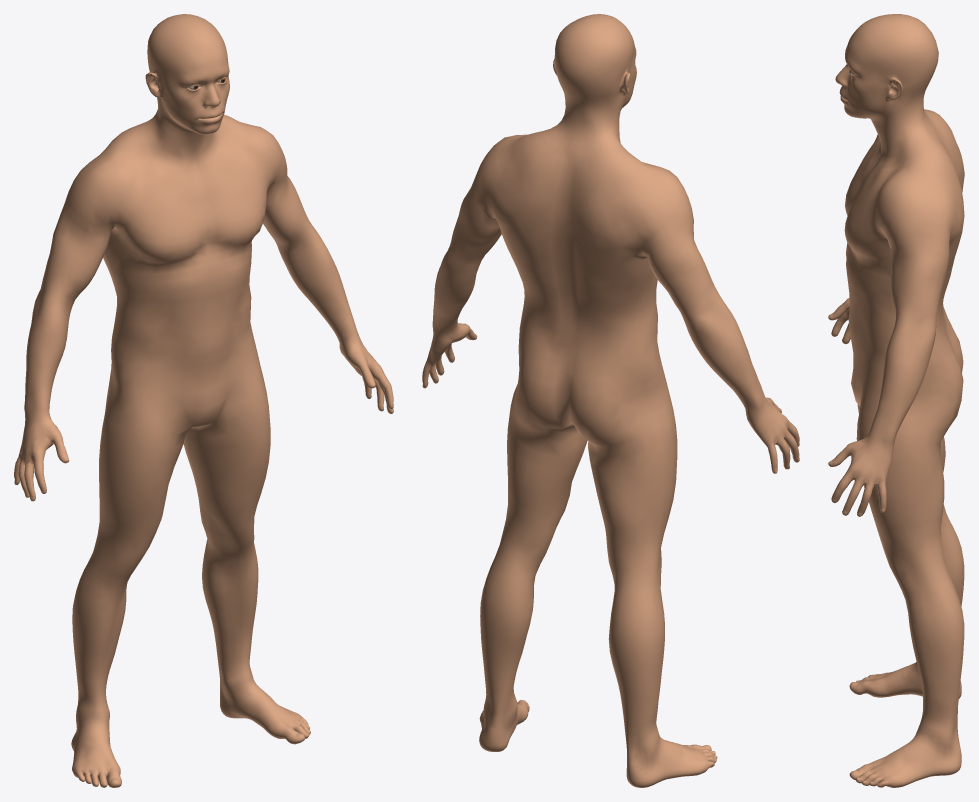
Rendered from bodyMale-realistic.glb.
The picture shows the model from 3 angles, left to right: view 1: azimuth 30°, elevation 25°; view 2: azimuth 150°, elevation 25°; view 3: azimuth 270°, elevation 25°; orthographic projection.
Visible parts, largest first — view 1: GEO-body_male_realistic-torso, GEO-body_male_realistic-right_leg, GEO-body_male_realistic-left_leg, GEO-body_male_realistic-right_arm, GEO-body_male_realistic-left_arm, GEO-body_male_realistic-head; view 2: GEO-body_male_realistic-torso, GEO-body_male_realistic-right_leg, GEO-body_male_realistic-left_leg, GEO-body_male_realistic-right_arm, GEO-body_male_realistic-left_arm, GEO-body_male_realistic-head; view 3: GEO-body_male_realistic-left_leg, GEO-body_male_realistic-torso, GEO-body_male_realistic-left_arm, GEO-body_male_realistic-head, GEO-body_male_realistic-right_leg, GEO-body_male_realistic-right_arm.
Boxes of the visible parts, x1,y1,x2,y2 form: GEO-body_male_realistic-torso: (100, 110, 267, 434); GEO-body_male_realistic-right_leg: (71, 414, 205, 787); GEO-body_male_realistic-left_leg: (183, 393, 310, 744); GEO-body_male_realistic-right_arm: (14, 148, 131, 501); GEO-body_male_realistic-left_arm: (234, 119, 393, 413); GEO-body_male_realistic-head: (145, 14, 229, 130); GEO-body_male_realistic-torso: (492, 110, 673, 437); GEO-body_male_realistic-right_leg: (572, 412, 717, 787); GEO-body_male_realistic-left_leg: (479, 394, 587, 751); GEO-body_male_realistic-right_arm: (625, 165, 799, 473); GEO-body_male_realistic-left_arm: (422, 134, 527, 388); GEO-body_male_realistic-head: (553, 14, 636, 125); GEO-body_male_realistic-left_leg: (849, 416, 964, 787); GEO-body_male_realistic-torso: (844, 108, 964, 431); GEO-body_male_realistic-left_arm: (828, 167, 958, 516); GEO-body_male_realistic-head: (835, 14, 938, 121); GEO-body_male_realistic-right_leg: (849, 404, 964, 698); GEO-body_male_realistic-right_arm: (828, 298, 850, 344).
Bounding box in the file's own units: 0.8807 × 1.69 × 0.2904.
